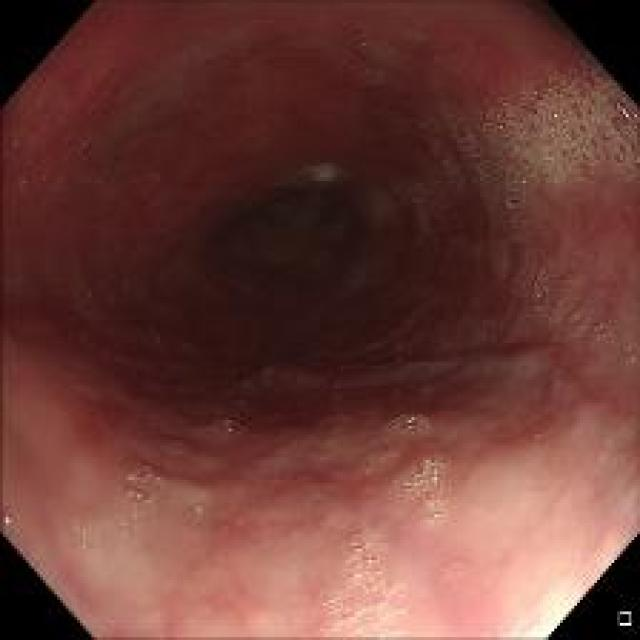bubbles: (386, 98, 625, 236), (498, 256, 632, 362), (362, 406, 448, 528), (321, 521, 406, 634), (526, 68, 625, 120), (102, 452, 162, 536), (615, 91, 639, 185), (435, 560, 469, 579), (215, 412, 244, 434)
contrast: (150, 146, 432, 360)
